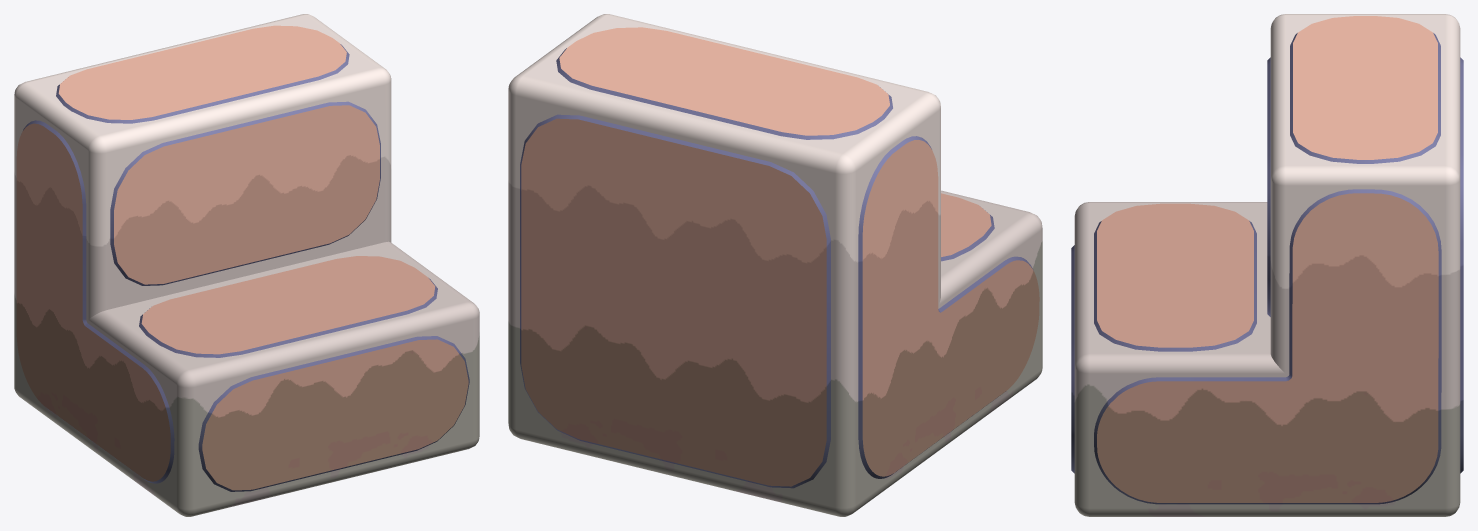
Rendered from R4B_Step.glb.
3 views of the same model, side by side, from view 1: azimuth 30°, elevation 25°; view 2: azimuth 150°, elevation 25°; view 3: azimuth 270°, elevation 25° (orthographic). The views are drawn at different scales.
Visible parts, largest first — view 1: R4B_Step; view 2: R4B_Step; view 3: R4B_Step.
Boxes of the visible parts, x1,y1,x2,y2 form: R4B_Step: (14,14,479,516); R4B_Step: (508,14,1042,516); R4B_Step: (1071,14,1463,516).
Size of the model in its own units: 0.52 by 0.52 by 0.52.
Materials: 3 (3 with a texture image).
